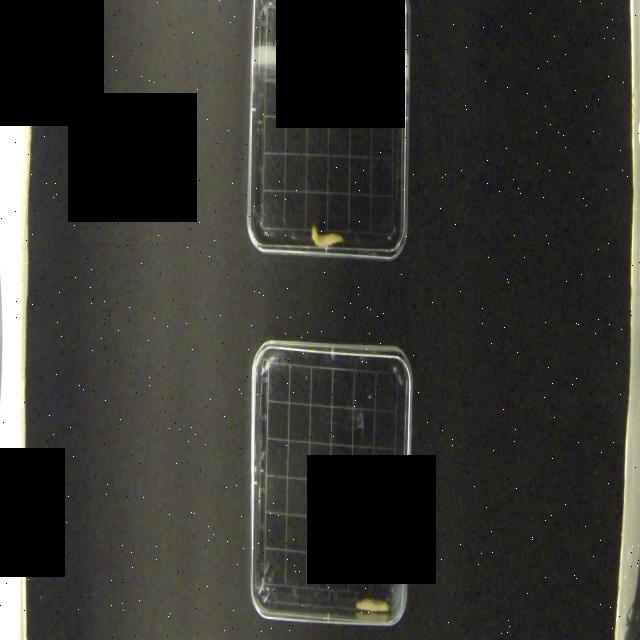larva: (354, 583, 392, 617), (311, 224, 343, 249)
